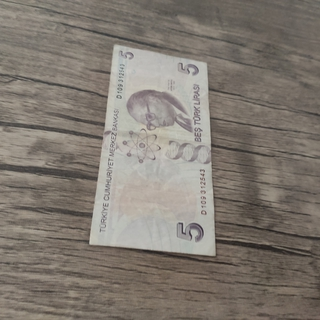5TLBack: (87, 42, 216, 257)
